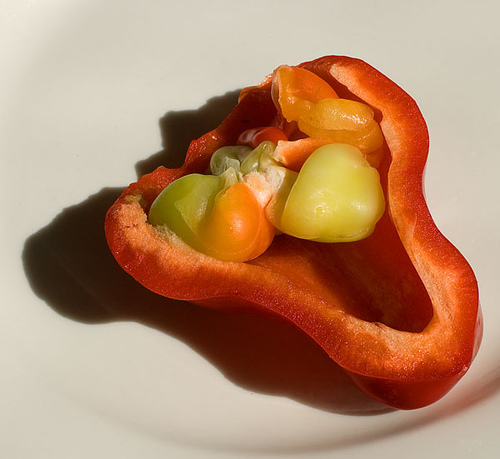capsicum: (101, 54, 483, 408)
